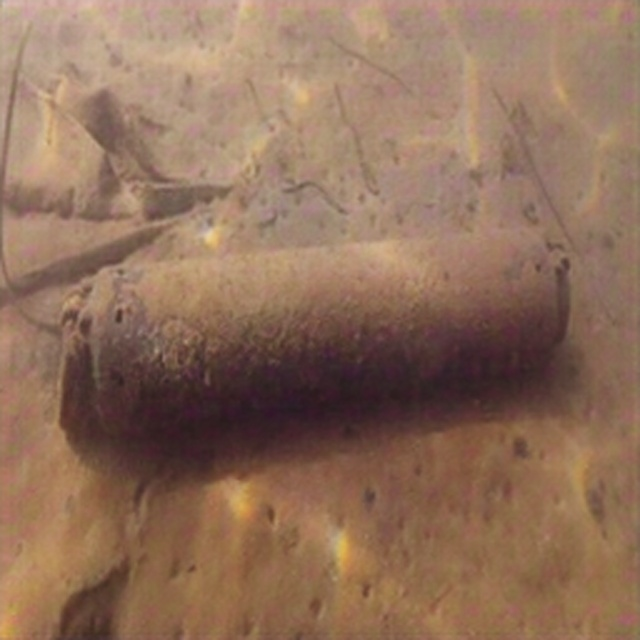mine: (59, 226, 570, 442)
